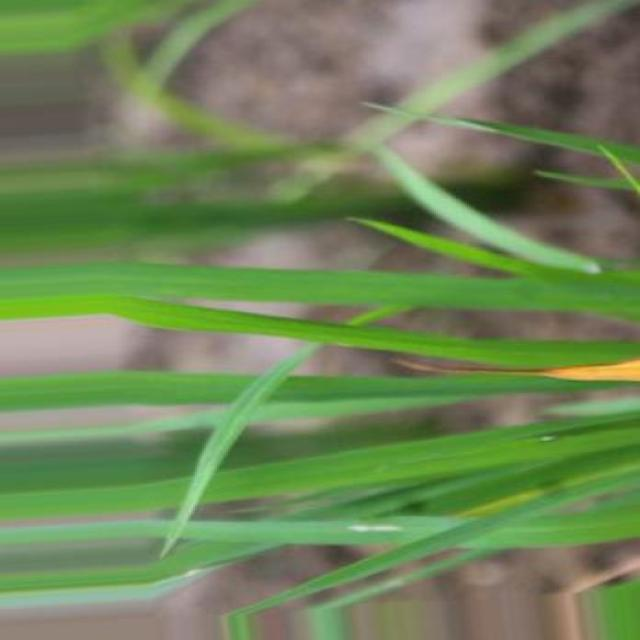Rice Tungro: (539, 359, 640, 381)
